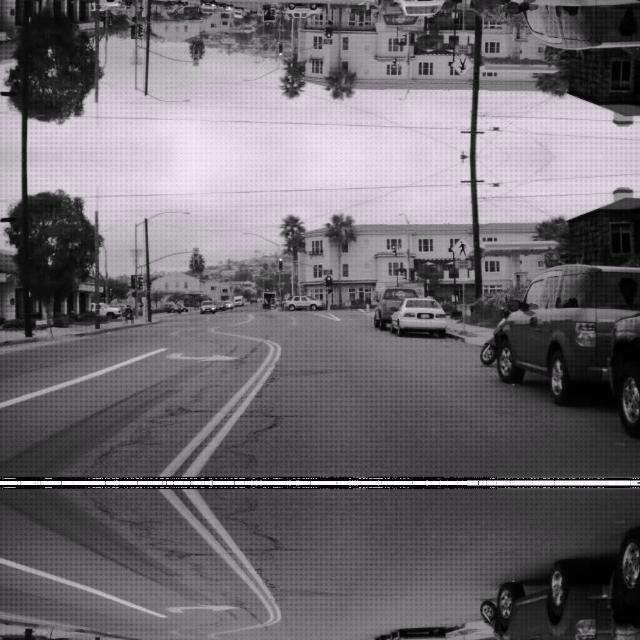pedestrianCrossing: (451, 236, 474, 258), (451, 54, 474, 76)
